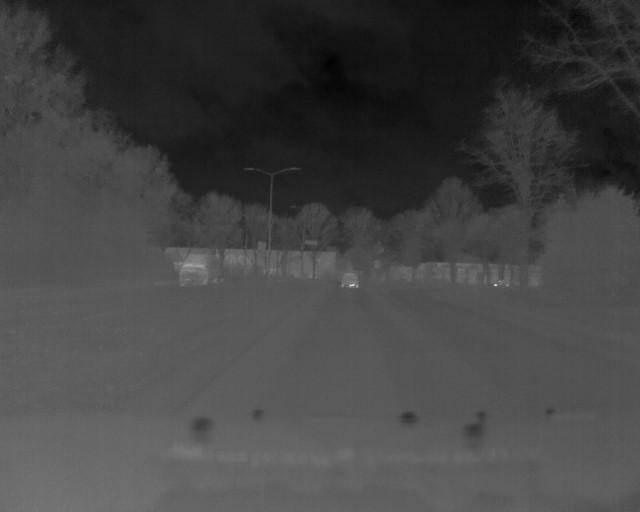car: (176, 253, 223, 289), (340, 269, 362, 288)
